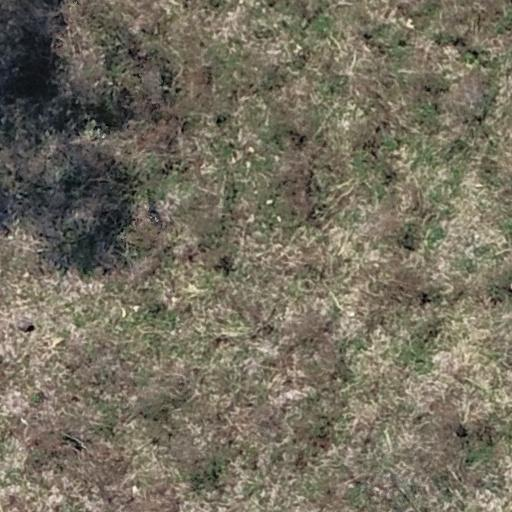stone: (16, 318, 36, 334)
